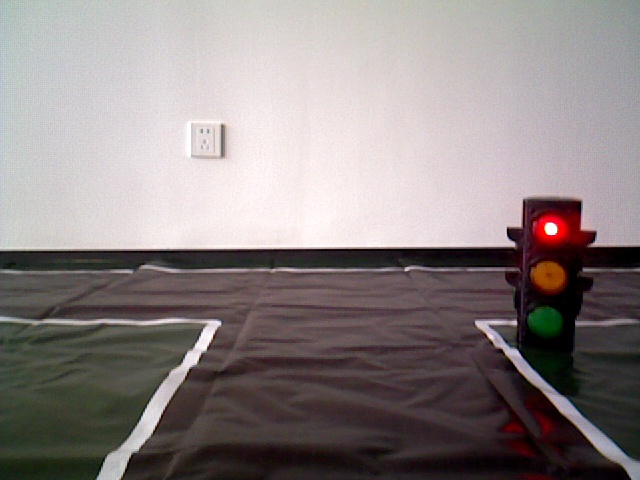red: (519, 203, 575, 346)
